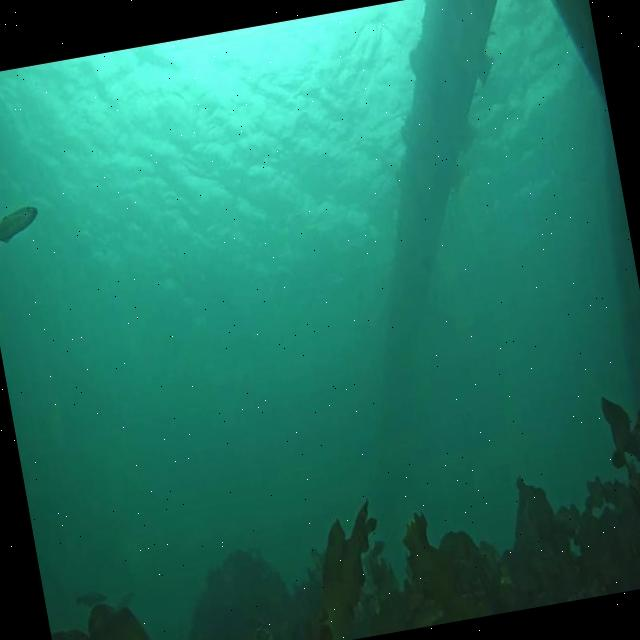fish: (0, 202, 44, 261), (72, 586, 110, 610)
